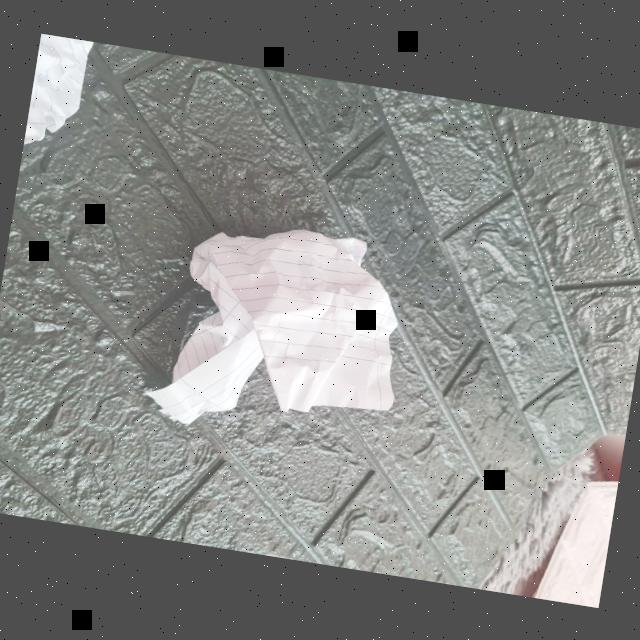scrap_paper: (172, 210, 418, 428)
